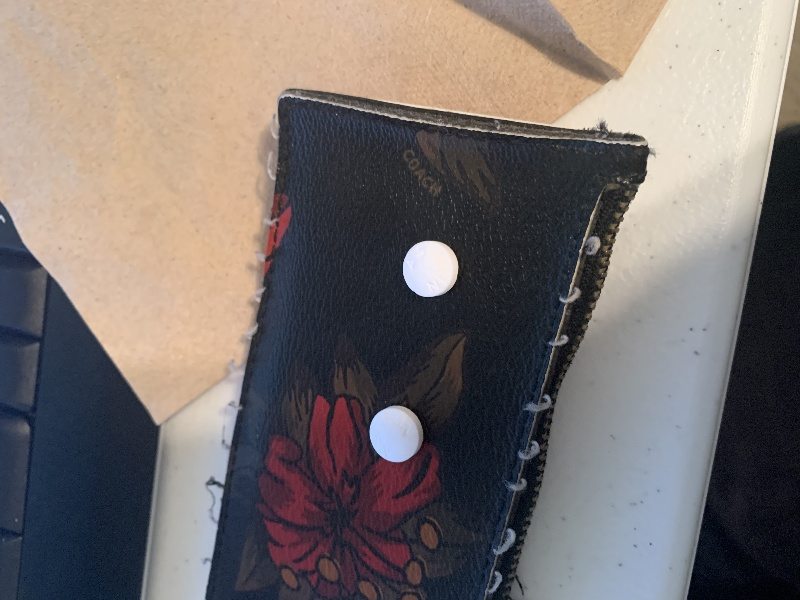Aspirin: (363, 398, 434, 468), (398, 235, 467, 303)
